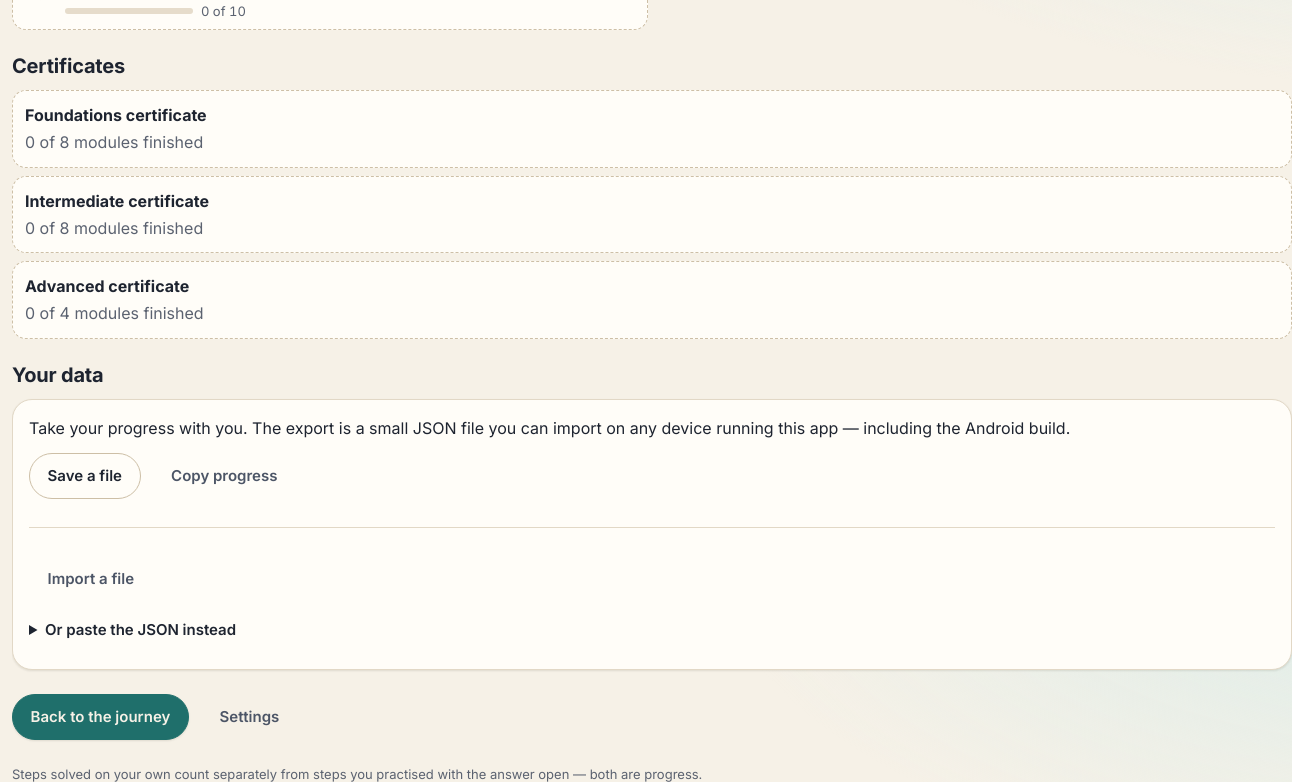
Test case: export on the Progress screen (R4) › says a download was requested, not that a file was saved, and points to the alternatives
(page scrolled)
Click the button "Save a file".
click(85, 476)  # box [29,453,140,499]
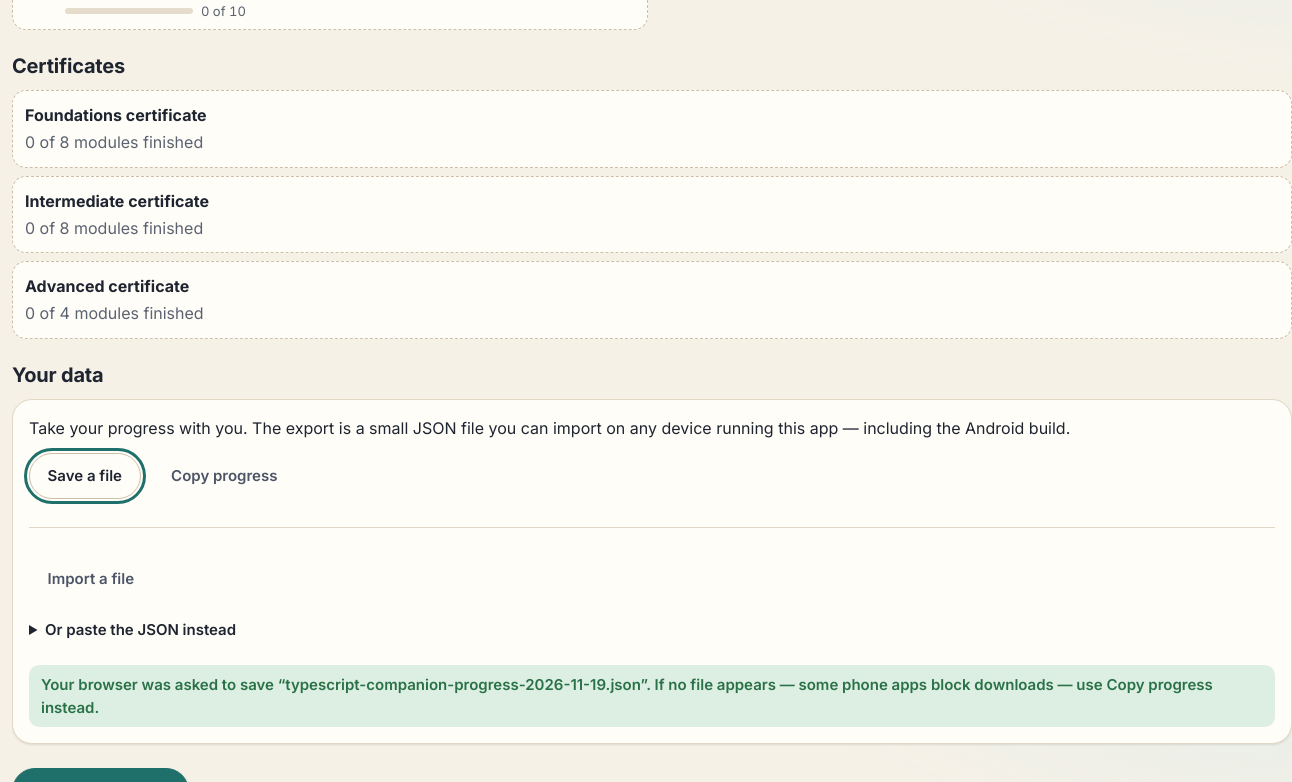
Expected: the message does not show "file saved", [29,665,1275,728]
Now the message shows "was asked to save", box [41,675,1213,717]
Now the message shows "If no file appears", box [41,675,1213,717]
